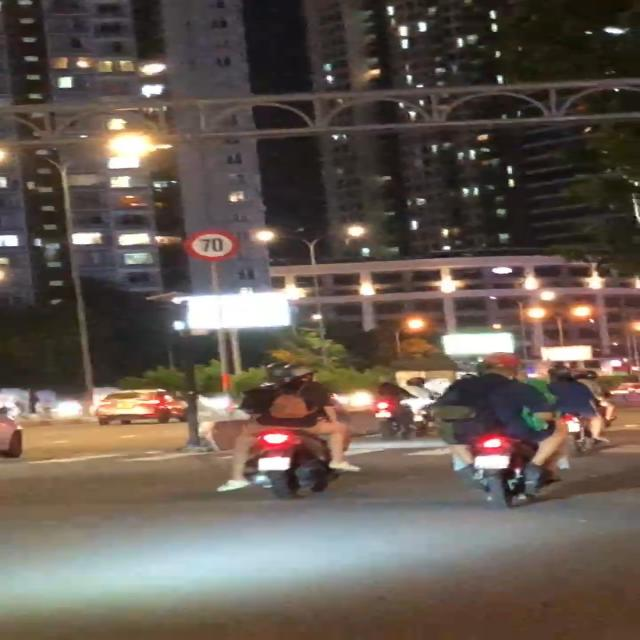Bien bao toc do toi da cho phep: (182, 230, 240, 263)
